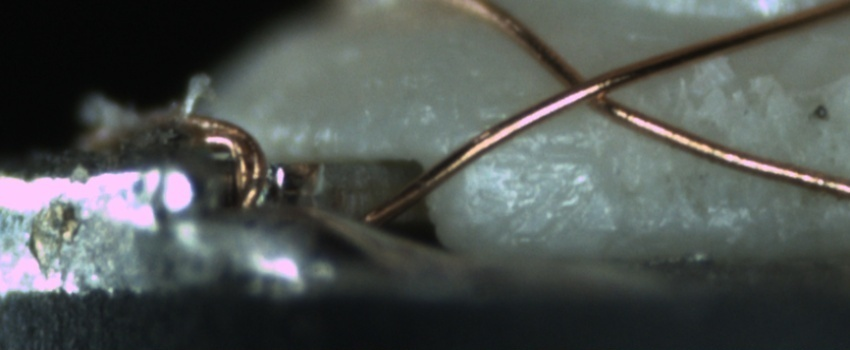CL: (540, 57, 632, 118)
DL: (479, 124, 597, 180)
TE: (171, 103, 277, 222)
